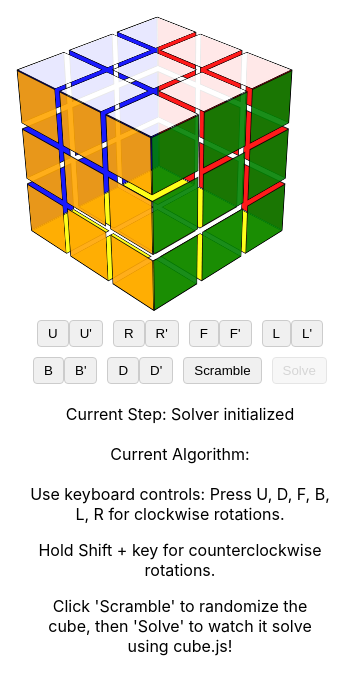
Test: Rubik's Cube App › scramble button changes cube state
The width and height of the screenshot is (346, 673).
Click the button "Scramble": (222, 370) x1=183 y1=357 x2=262 y2=384
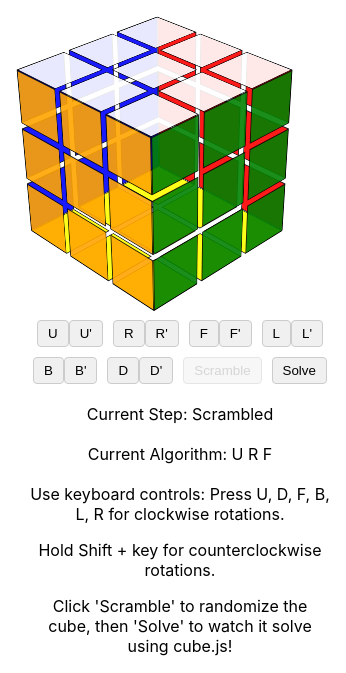
Expected: the text "Current Step: Scrambled" is shown, x1=87 y1=404 x2=273 y2=424
